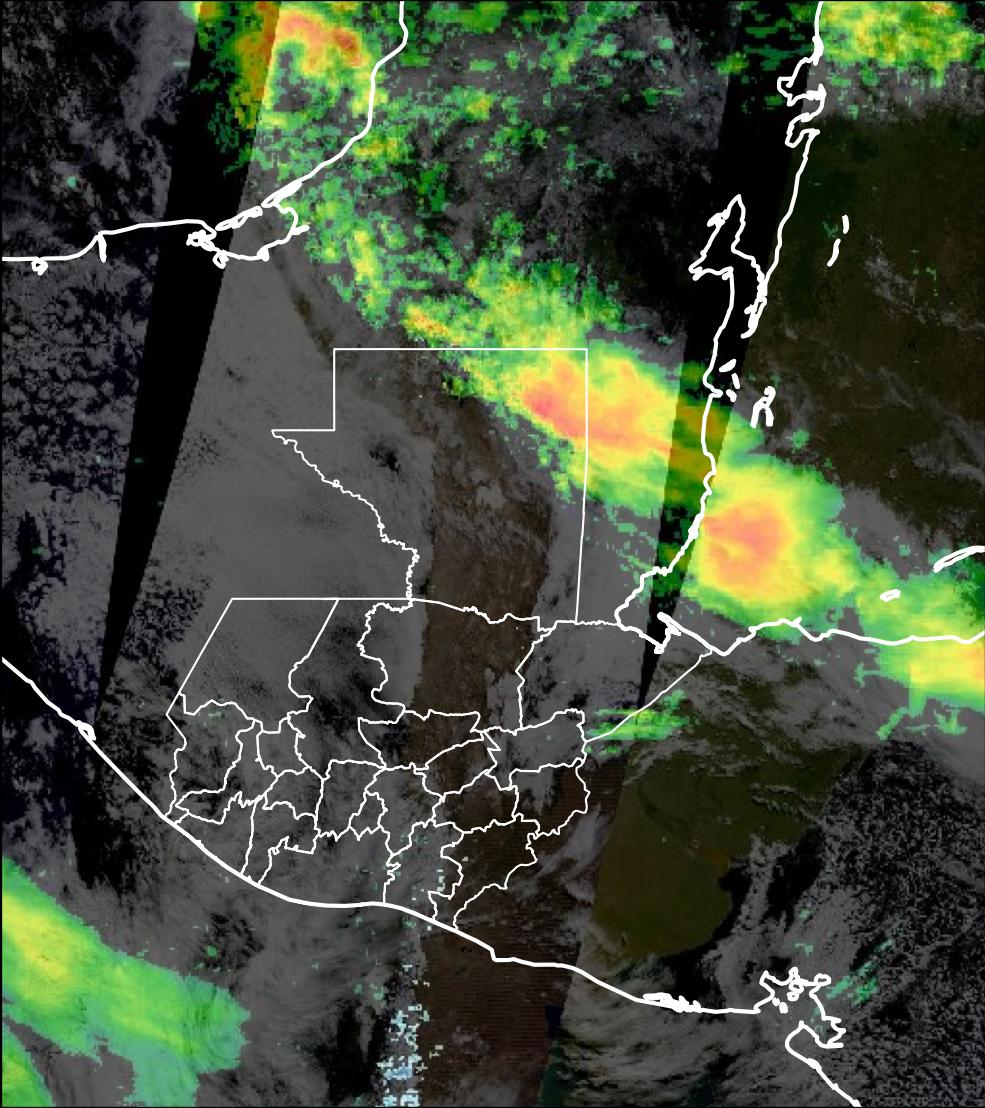precipitacion: (527, 360, 690, 477), (707, 496, 809, 607), (234, 5, 363, 80)
